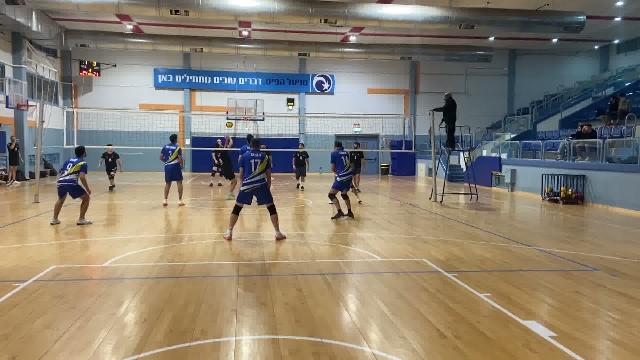ball: (225, 120, 237, 129)
